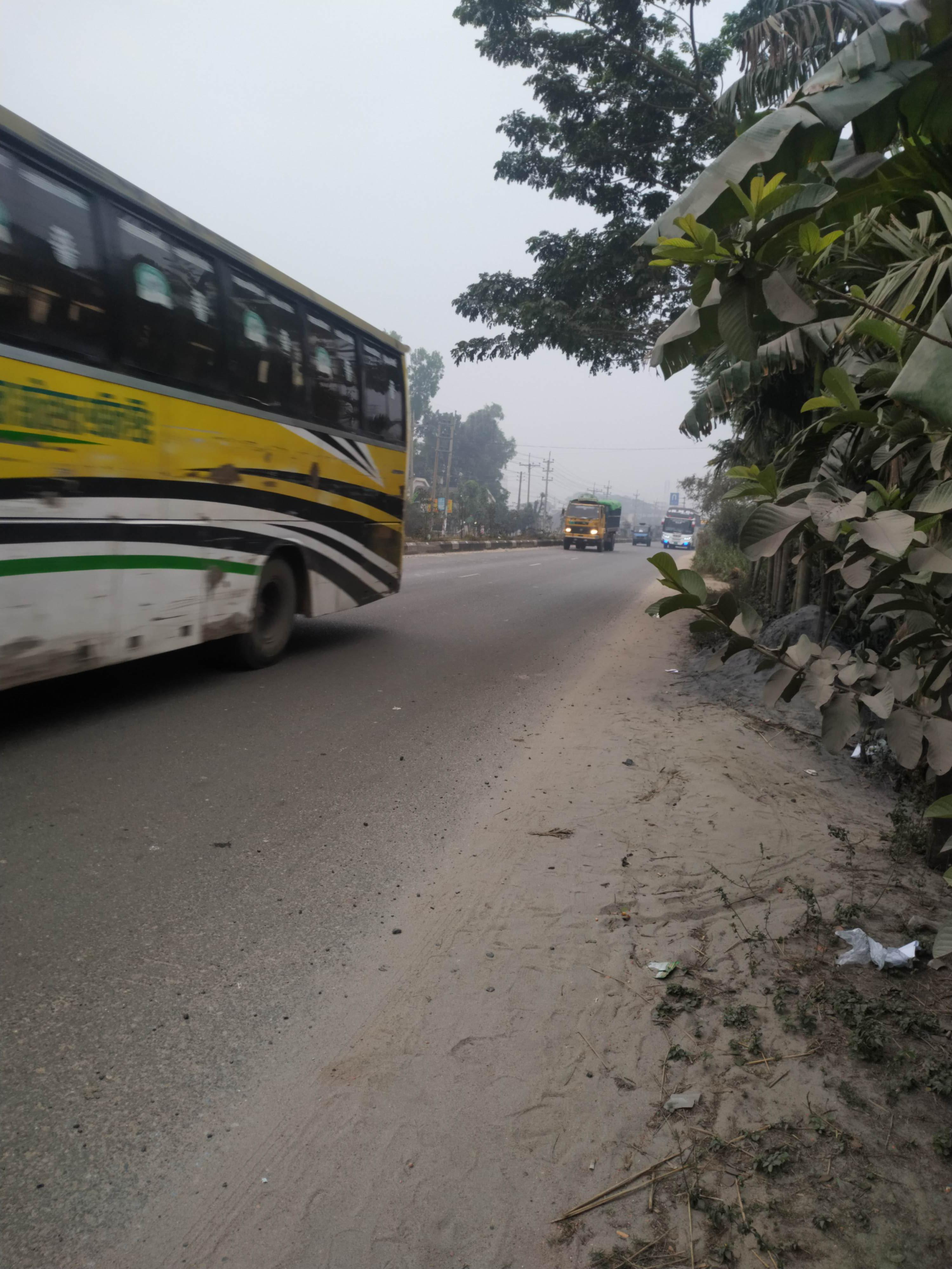Bus: (5, 90, 439, 691), (651, 490, 707, 567)
Truck: (558, 485, 629, 563)
